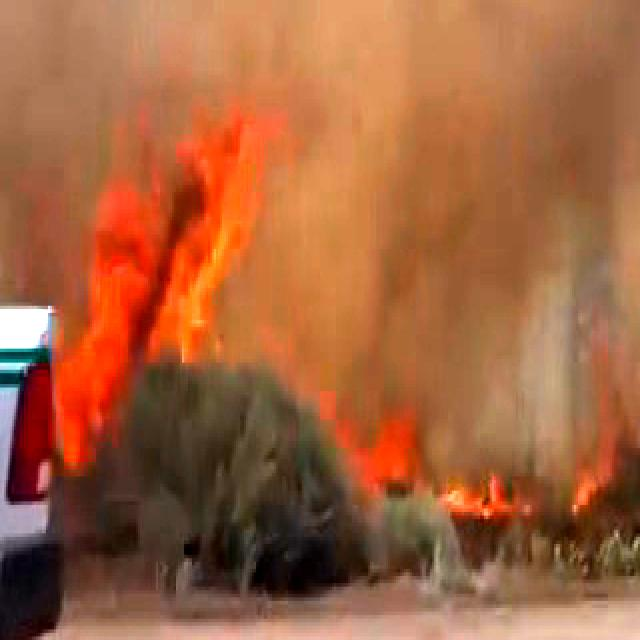fire: (70, 113, 278, 528), (314, 370, 640, 554)
smoke: (270, 0, 640, 309), (0, 0, 640, 114)
